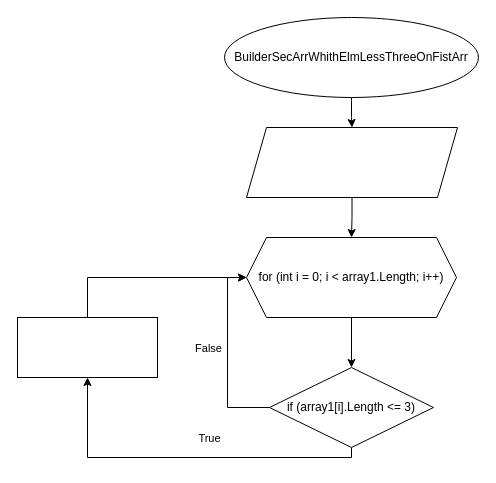
Image size: 496x483. Some labels were removed from this diagram. The shapes that lost their labels are listed below. From the top down, each one's centre as x and y in pixels, then its label:
At pixel 352 162: "string[] array1, string[] array2".
At pixel 87 347: "array2[count] = array1[i]; count++;".
